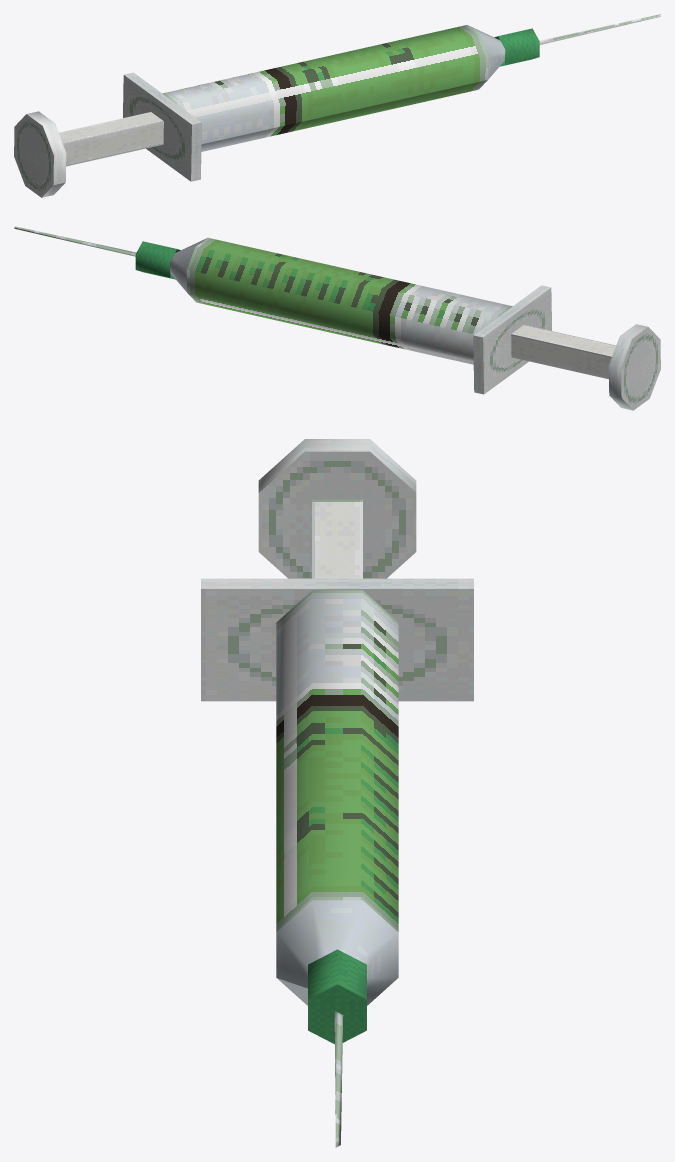
Rendered from syringe.obj.
3 renders of one model, top to bottom at view 1: azimuth 30°, elevation 25°; view 2: azimuth 150°, elevation 25°; view 3: azimuth 270°, elevation 25°, orthographic. The views are drawn at different scales.
Parts seen in each view (by area): view 1: syringe; view 2: syringe; view 3: syringe.
Part boxes in pixels (<box>): syringe: <box>14,14,660,197</box>; syringe: <box>14,226,660,410</box>; syringe: <box>201,439,473,1147</box>.
Size of the model in its own units: 0.1271 by 0.0139 by 0.024.
1 material, 1 textured.
